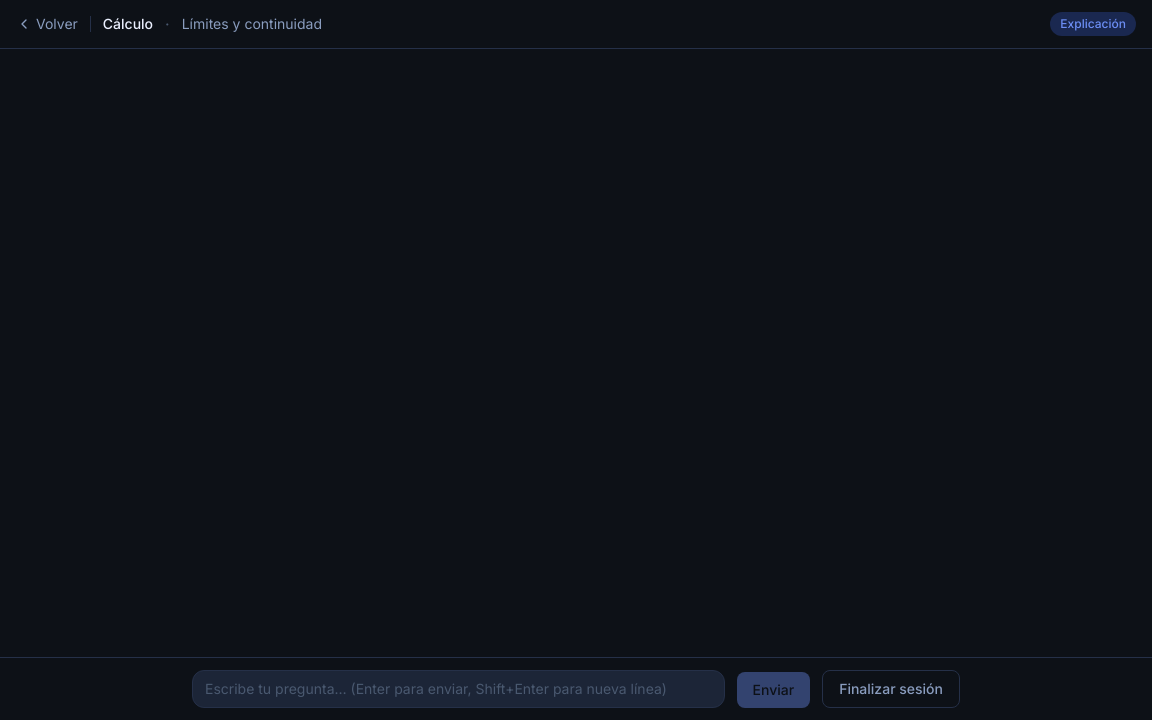
Test: ChatSession › shows user message in chat after sending
The image size is (1152, 720).
In the text box: (458, 689) 192,670 -> 725,708, type "¿Qué es un límite?"
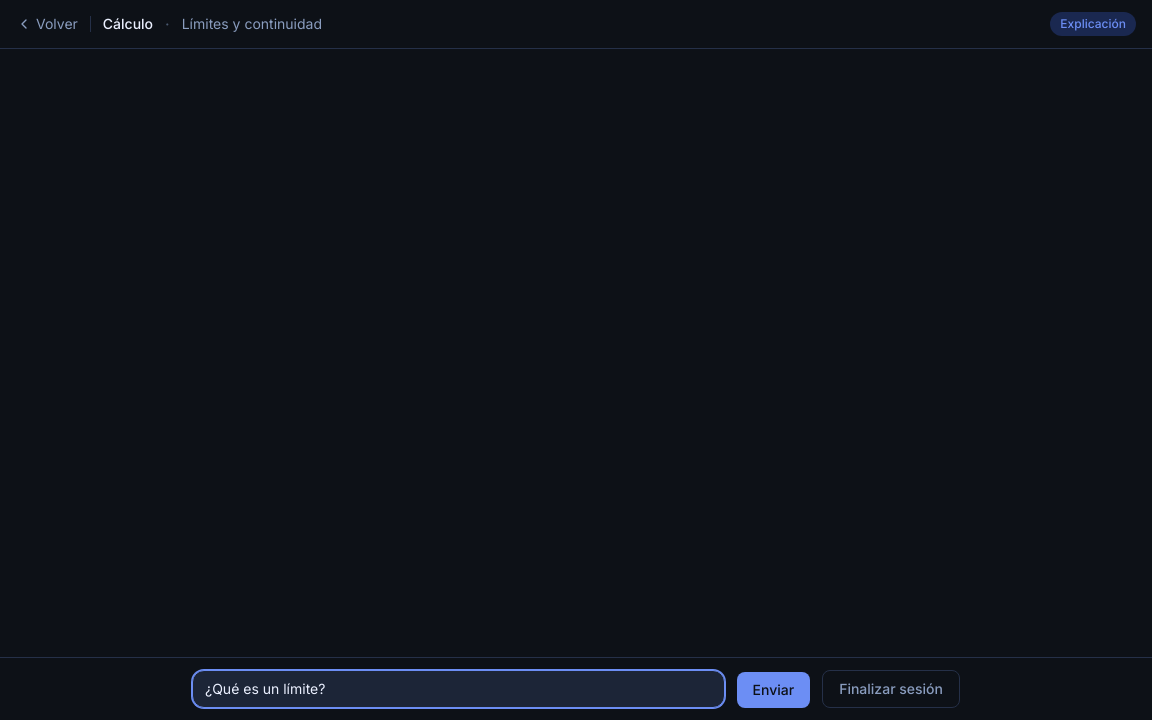
Click the button "Enviar": click(773, 690) 737,672 -> 810,708
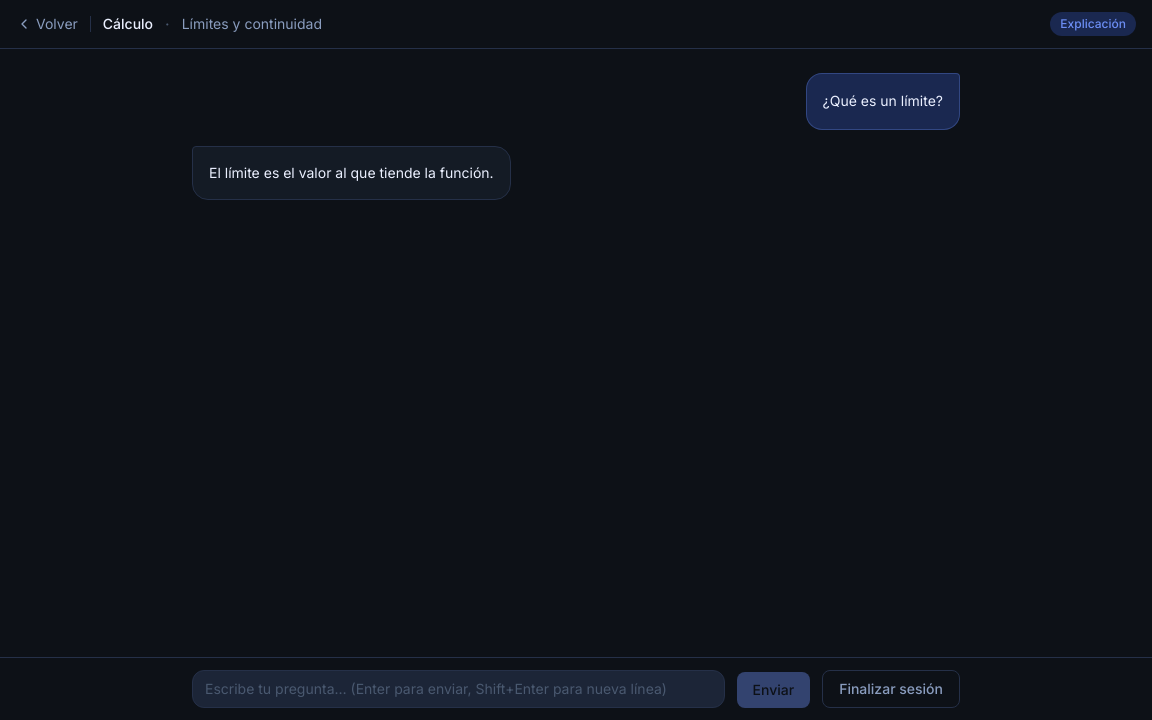
Expected: the text "¿Qué es un límite?" is shown, 823,90 -> 943,113
